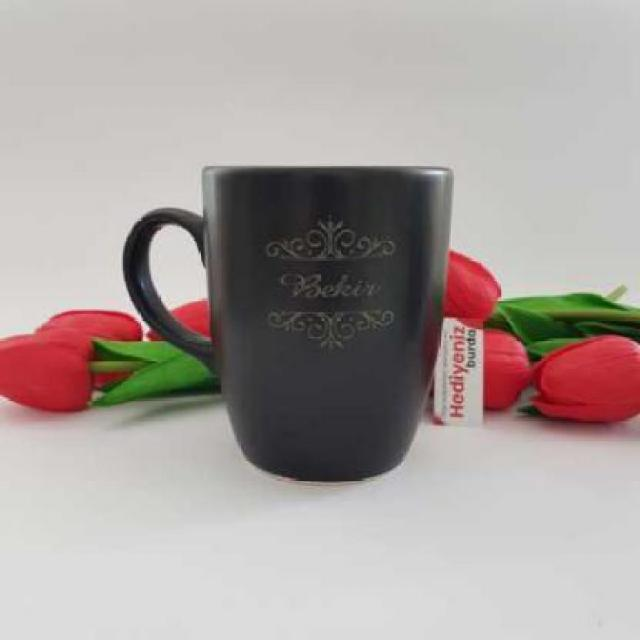taza: (119, 158, 454, 485)
